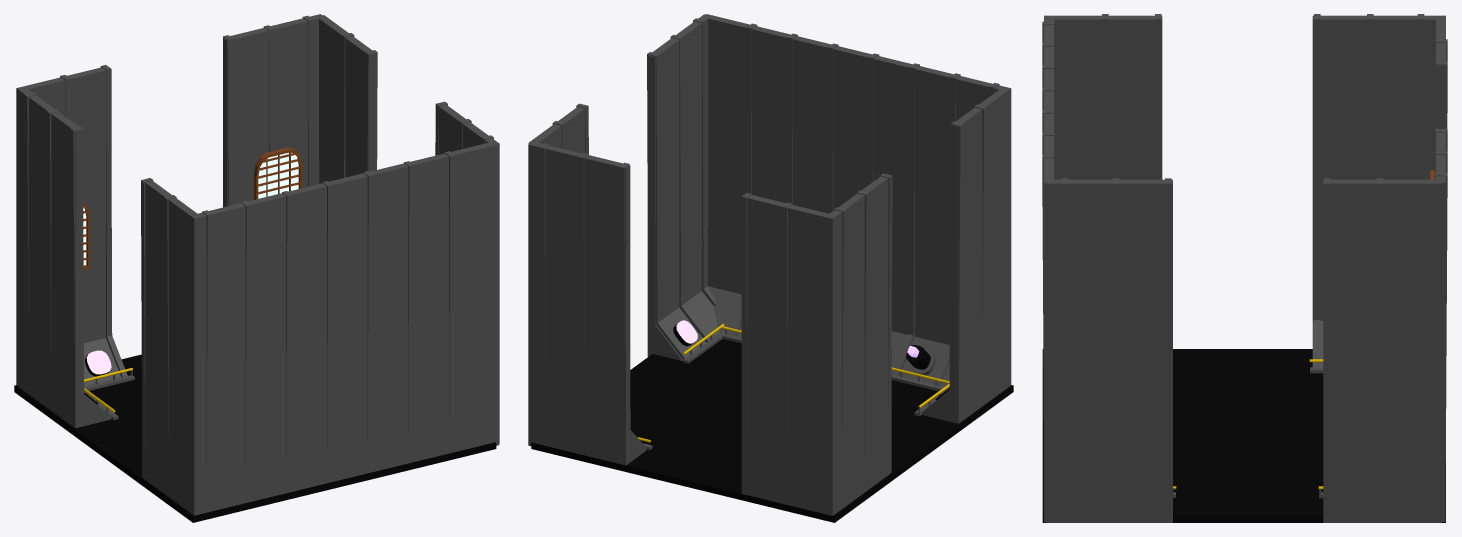
Rendered from Room3 (2).fbx.
3 renders of one model, left to right at view 1: azimuth 30°, elevation 25°; view 2: azimuth 150°, elevation 25°; view 3: azimuth 270°, elevation 25°, orthographic. The views are drawn at different scales.
Visible parts, largest first — view 1: Wall4.001, WalktroughWall2.005, WalktroughWall1.002, WalktroughWall2.004, Room3; view 2: WalktroughWall1.002, Wall4.001, WalktroughWall2.005, WalktroughWall2.004, Room3; view 3: WalktroughWall2.004, WalktroughWall2.005, Room3, WalktroughWall1.002, Wall4.001.
Boxes of the visible parts, left/top/right/bottom form: Wall4.001: left=193, top=143, right=498, bottom=515; WalktroughWall2.005: left=19, top=88, right=201, bottom=515; WalktroughWall1.002: left=16, top=14, right=324, bottom=390; WalktroughWall2.004: left=319, top=15, right=499, bottom=444; Room3: left=14, top=354, right=496, bottom=522; WalktroughWall1.002: left=528, top=141, right=836, bottom=515; Wall4.001: left=706, top=14, right=1010, bottom=391; WalktroughWall2.005: left=829, top=86, right=1011, bottom=513; WalktroughWall2.004: left=528, top=14, right=727, bottom=363; Room3: left=531, top=339, right=1013, bottom=522; WalktroughWall2.004: left=1046, top=178, right=1441, bottom=522; WalktroughWall2.005: left=1044, top=14, right=1439, bottom=373; Room3: left=1042, top=349, right=1445, bottom=522; WalktroughWall1.002: left=1430, top=15, right=1447, bottom=521; Wall4.001: left=1042, top=19, right=1055, bottom=521.
Size of the model in its own units: 12065 by 11367 by 12157.
